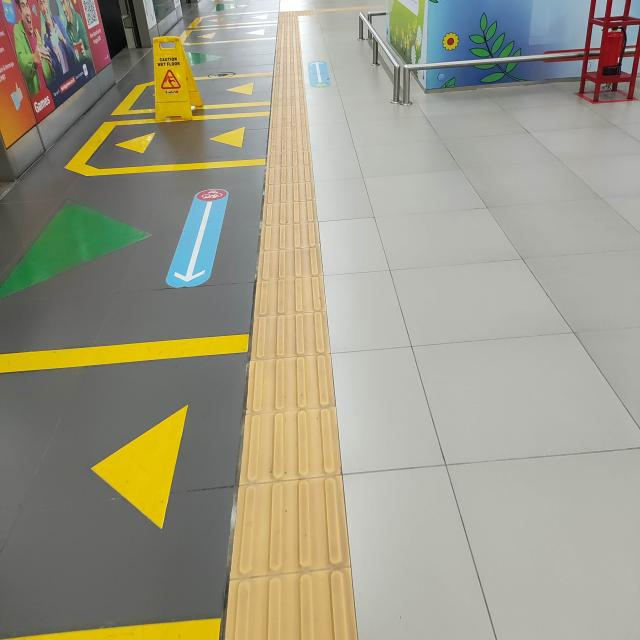lurus: (237, 20, 329, 640)
